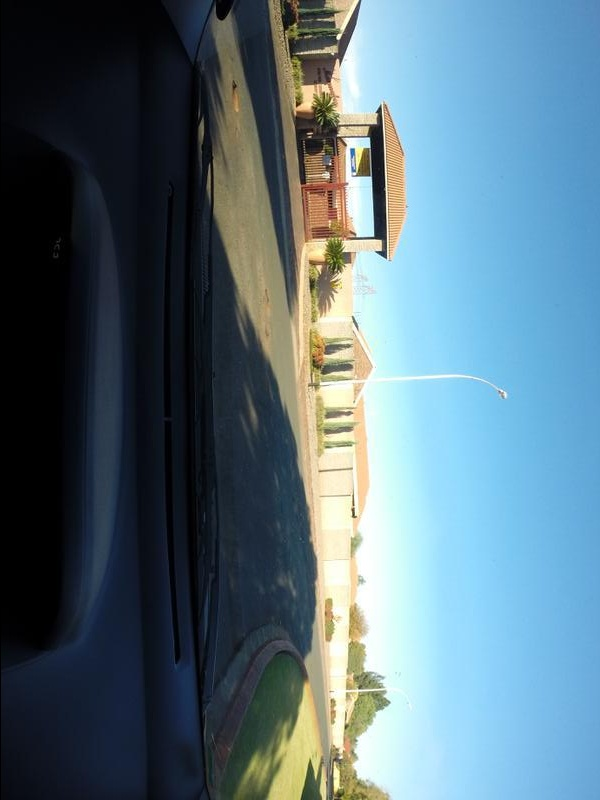pothole: (212, 66, 247, 135), (255, 284, 277, 348)
